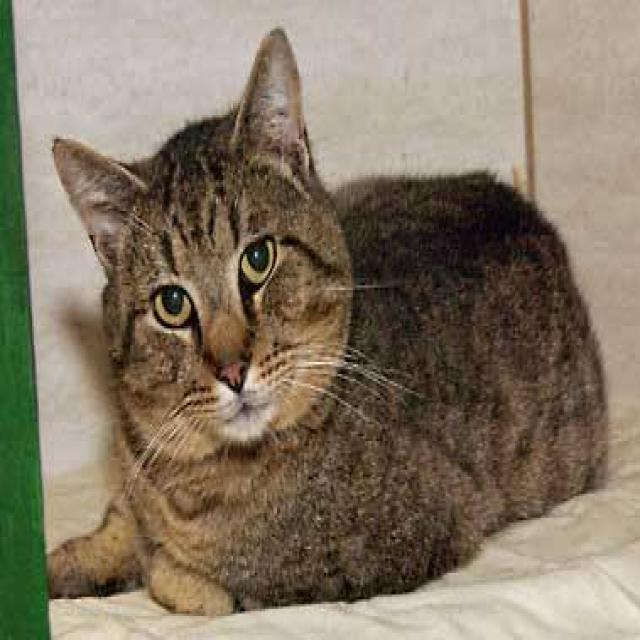cat: (44, 24, 610, 616)
